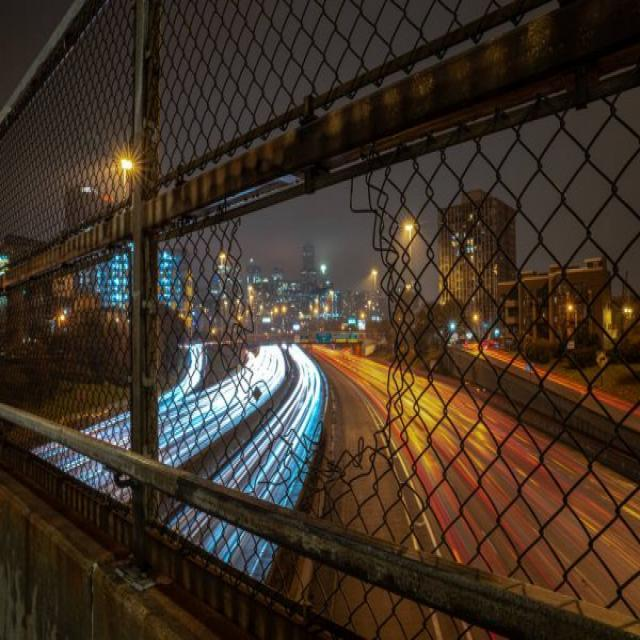fence line: (230, 154, 399, 484)
